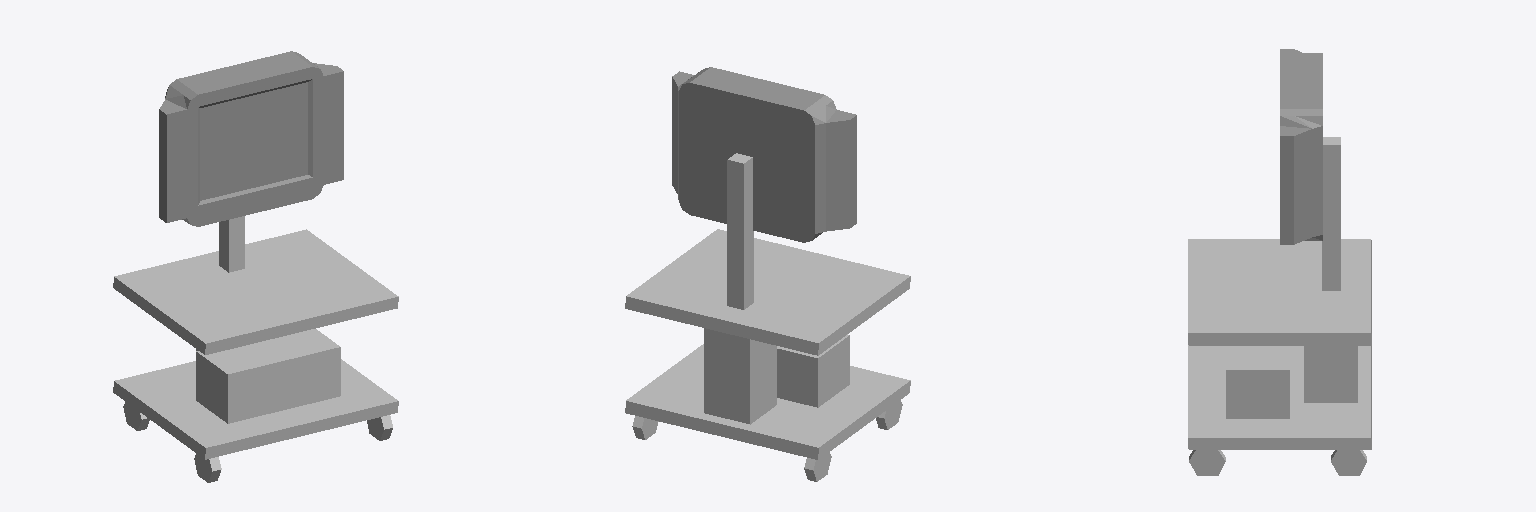
File: mesh_monitor_cordless.obj
The picture shows the model from 3 angles: view 1: azimuth 30°, elevation 25°; view 2: azimuth 150°, elevation 25°; view 3: azimuth 270°, elevation 25°; orthographic projection.
Visible parts, largest first — view 1: Cube.002, Cube, Cube.004_Cube.007, Cylinder.001; view 2: Cube.002, Cube, Cube.004_Cube.007, Cylinder.001; view 3: Cube.002, Cube, Cube.004_Cube.007, Cylinder.001.
Boxes of the visible parts, x1,y1,x2,y2 form: Cube.002: [113, 216, 398, 459]; Cube: [159, 51, 343, 226]; Cube.004_Cube.007: [196, 329, 340, 423]; Cylinder.001: [123, 402, 392, 482]; Cube.002: [625, 153, 910, 459]; Cube: [672, 67, 856, 242]; Cube.004_Cube.007: [777, 334, 849, 407]; Cylinder.001: [632, 400, 902, 481]; Cube.002: [1188, 137, 1371, 449]; Cube: [1280, 49, 1322, 244]; Cube.004_Cube.007: [1226, 346, 1289, 418]; Cylinder.001: [1189, 450, 1366, 475].
Bounding box in the file's own units: 2.73 × 4.73 × 2.26.